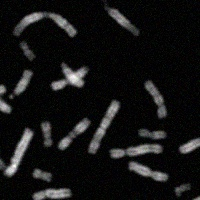chromosome: (87, 99, 120, 154), (11, 11, 77, 38), (96, 0, 139, 37), (4, 127, 33, 180), (57, 117, 90, 151), (129, 160, 169, 181), (144, 80, 166, 117), (52, 68, 87, 90), (60, 58, 84, 89), (109, 144, 162, 157), (11, 70, 35, 96), (0, 63, 12, 115), (32, 187, 74, 200), (39, 120, 54, 147), (179, 136, 200, 155), (19, 39, 35, 63), (139, 127, 166, 141), (32, 168, 52, 184), (174, 182, 193, 197), (0, 120, 4, 169), (158, 197, 200, 200), (0, 84, 5, 105), (0, 168, 1, 187)
